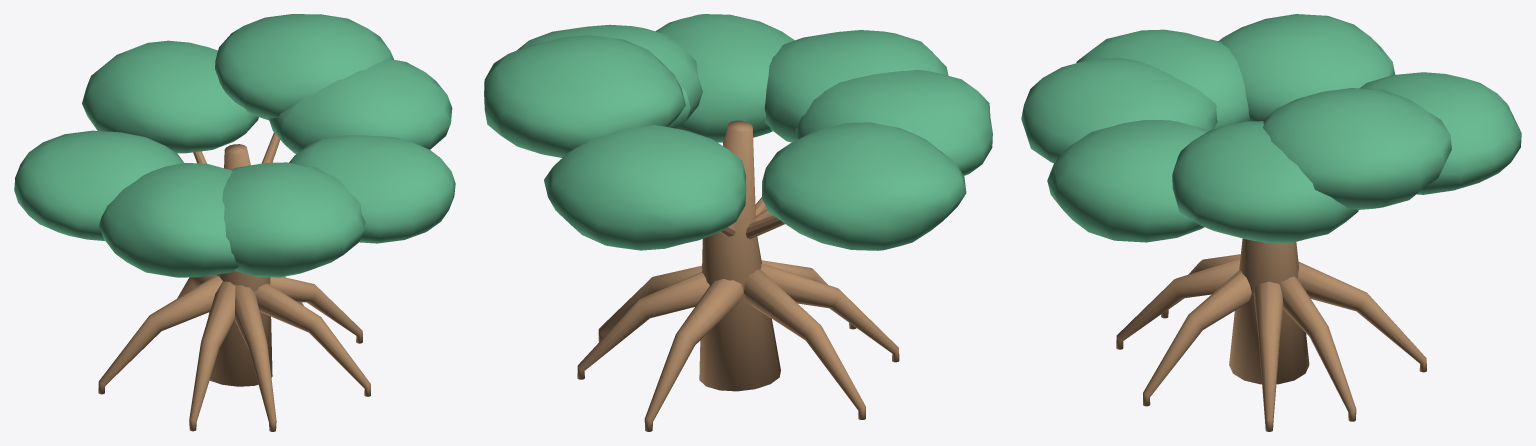
File: small_red_mangrove_tropical_island_and_palm_trees_6809.glb
3 views of the same model, side by side, from view 1: azimuth 30°, elevation 25°; view 2: azimuth 150°, elevation 25°; view 3: azimuth 270°, elevation 25° (orthographic). The views are drawn at different scales.
Parts seen in each view (by area): view 1: red-mangrove-small; view 2: red-mangrove-small; view 3: red-mangrove-small.
Boxes of the visible parts, x1=… form: red-mangrove-small: x1=14, y1=14, x2=455, y2=431; red-mangrove-small: x1=484, y1=14, x2=992, y2=431; red-mangrove-small: x1=1021, y1=14, x2=1521, y2=431.
Bounding box in the file's own units: 4.24 × 2.97 × 4.21.
